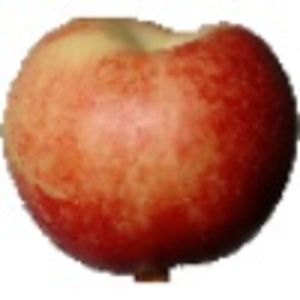nectarina: (1, 14, 300, 287)
